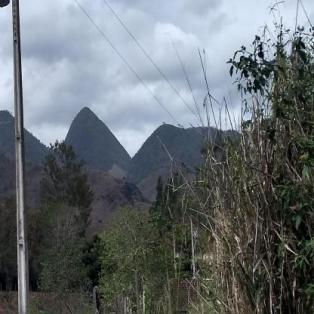Poste: (7, 0, 31, 309)
